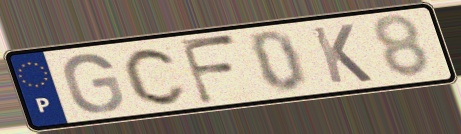0: (249, 28, 310, 95)
8: (370, 13, 438, 82)
C: (121, 45, 191, 108)
F: (176, 33, 241, 106)
G: (60, 51, 127, 115)
K: (308, 22, 376, 86)
